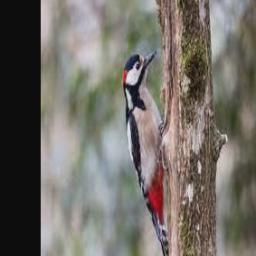Woodpecker: (123, 49, 169, 256)
